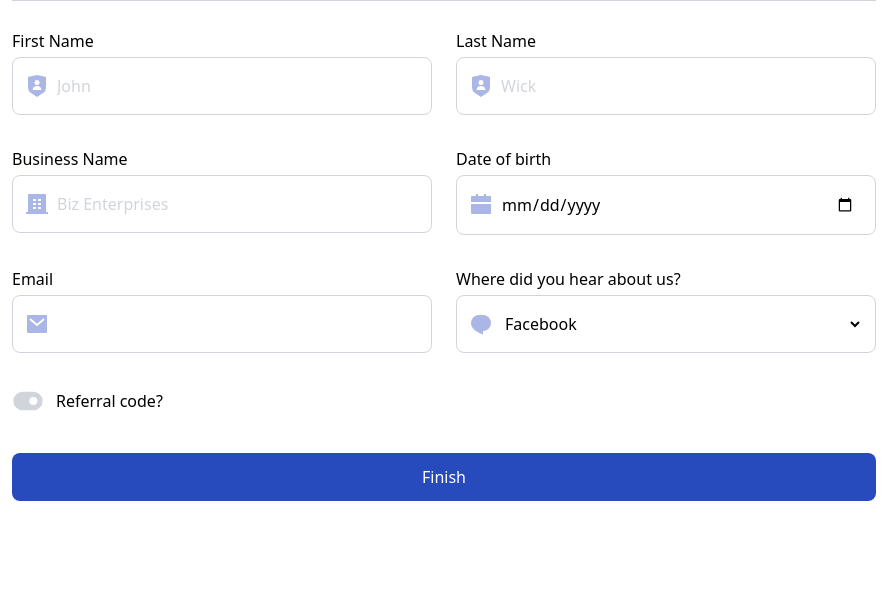
it: StepTwoSme Tests › should show the correct error message when first name field is empty
This screenshot has width=893, height=614.
Click the button "Finish" at point(444, 477), box [12,453,876,501]
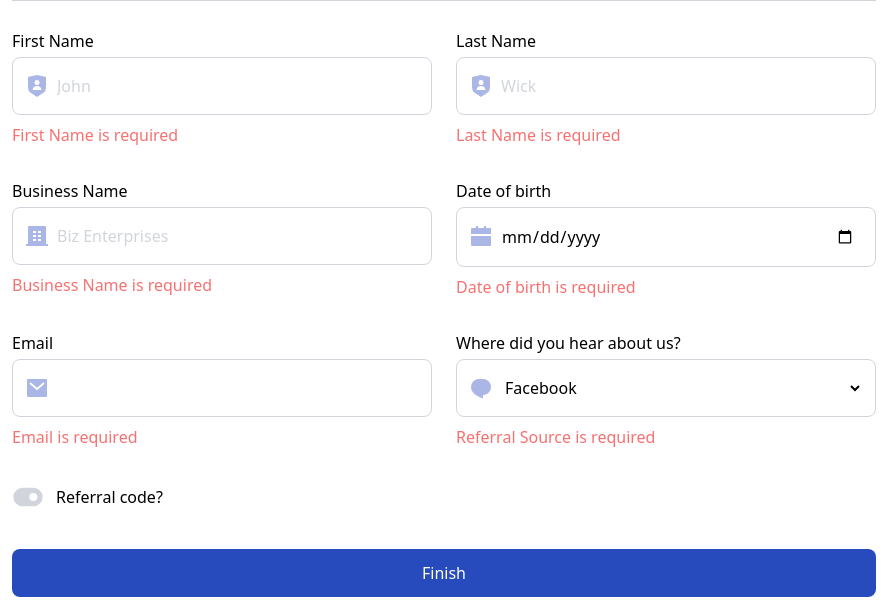
Expected: the text with test id "error" reads "First Name is required", [12,124,178,146]
